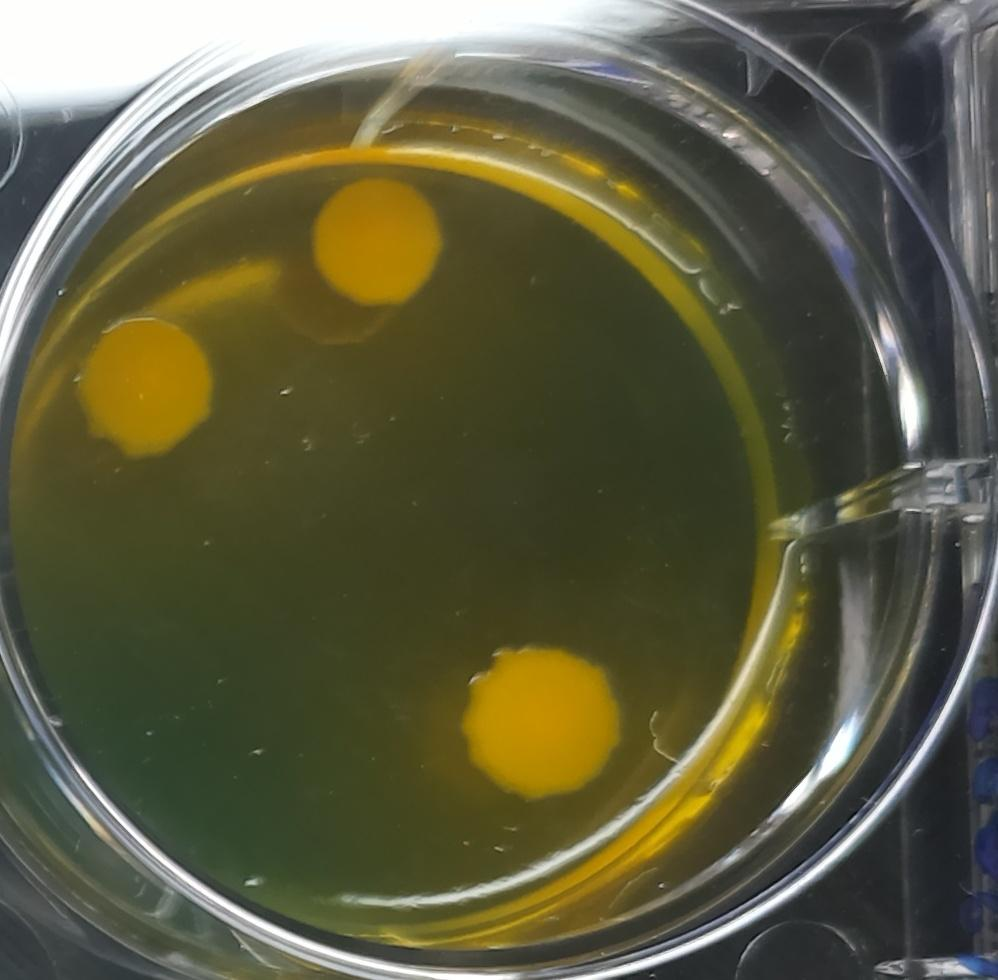vharveyi: (455, 628, 633, 806), (50, 303, 220, 460), (308, 160, 455, 316)
